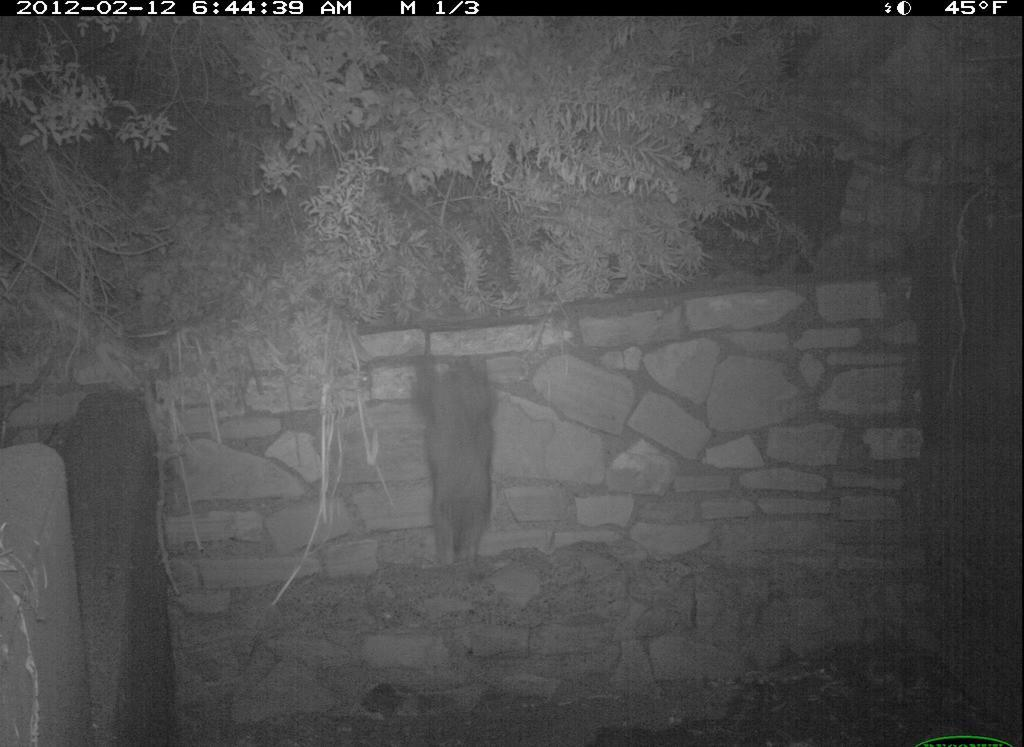raccoon: (397, 332, 514, 585)
